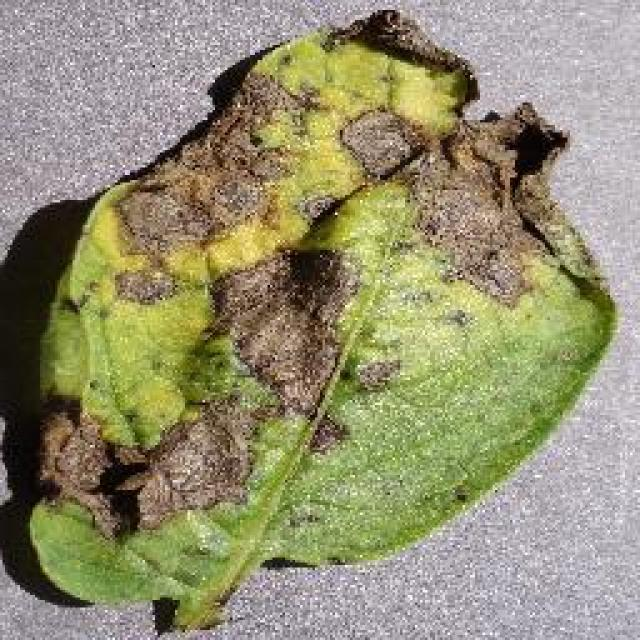green waste: (1, 3, 640, 624)
